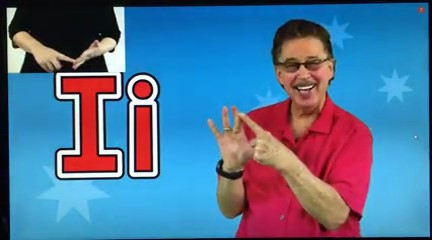I: (206, 99, 287, 176), (33, 40, 103, 70)
